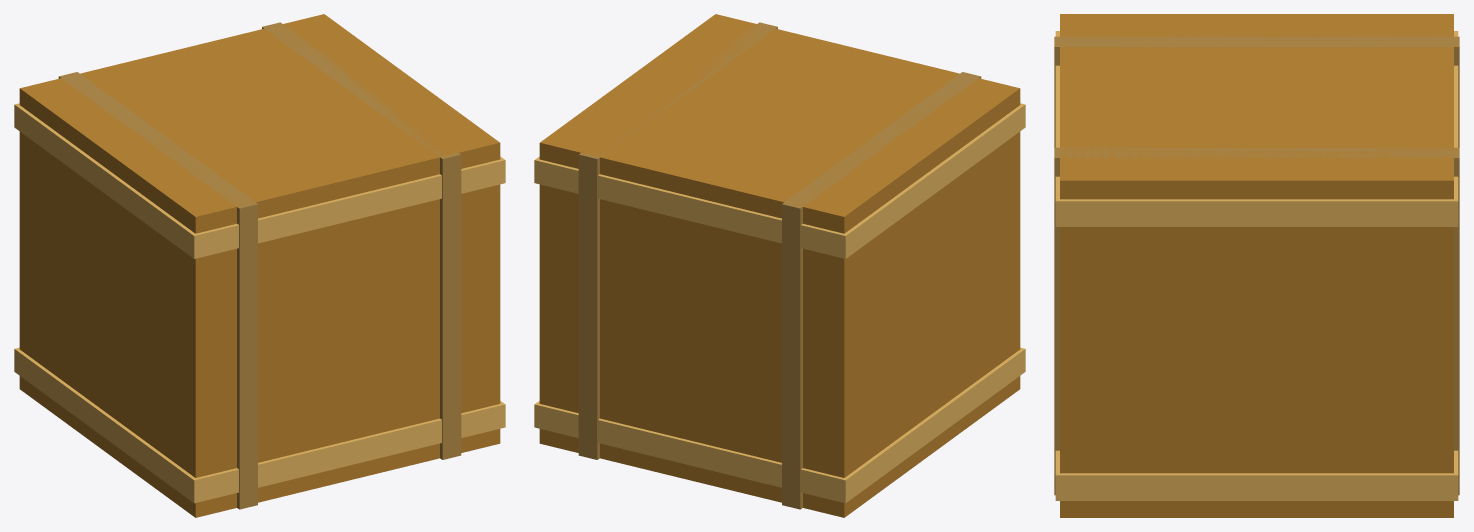
File: load-crate-100g.glb
3 renders of one model, left to right at view 1: azimuth 30°, elevation 25°; view 2: azimuth 150°, elevation 25°; view 3: azimuth 270°, elevation 25°, orthographic. The views are drawn at different scales.
Parts seen in each view (by area): view 1: gold-crate, crate-band (×4); view 2: gold-crate, crate-band (×4); view 3: gold-crate, crate-band (×4).
Boxes of the visible parts, <box> form: gold-crate: <box>19,14,500,517</box>; crate-band (×4): <box>14,22,505,509</box>; gold-crate: <box>539,14,1020,517</box>; crate-band (×4): <box>534,22,1025,509</box>; gold-crate: <box>1060,14,1453,517</box>; crate-band (×4): <box>1054,31,1459,500</box>.
Bounding box in the file's own units: 0.92 × 0.85 × 0.925.
